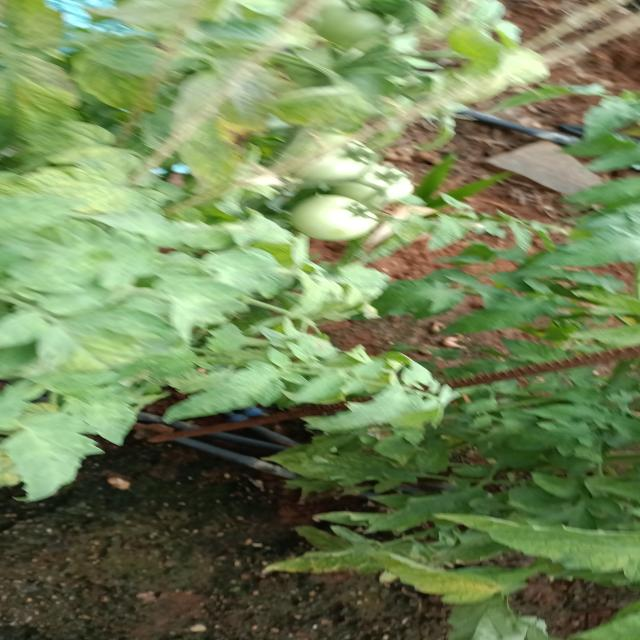Healthy Leaf: (438, 506, 640, 584)
